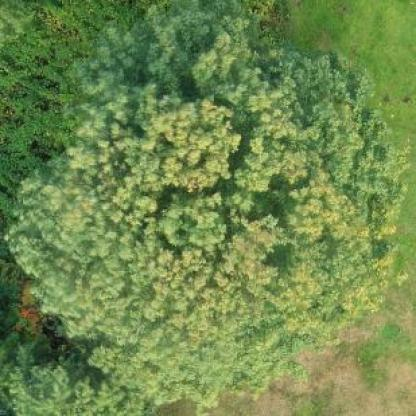Deciduous Tree: (29, 0, 402, 416)
